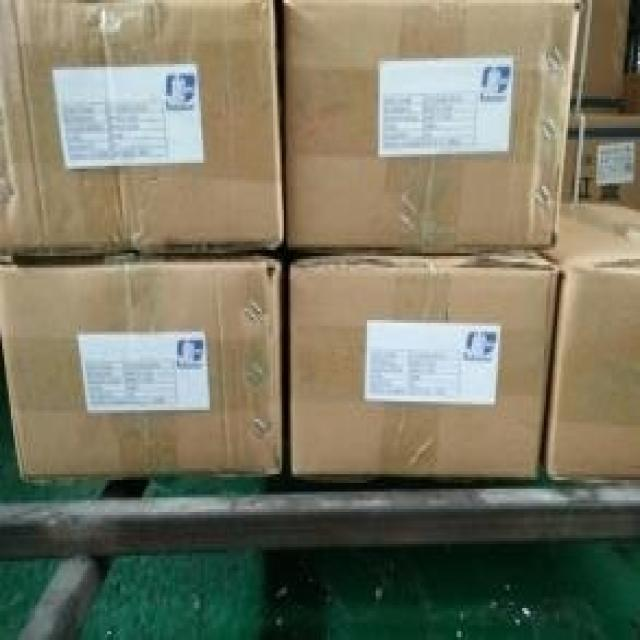box: (276, 0, 581, 253), (0, 1, 283, 256), (0, 251, 284, 485), (283, 247, 560, 480), (537, 201, 638, 479)
